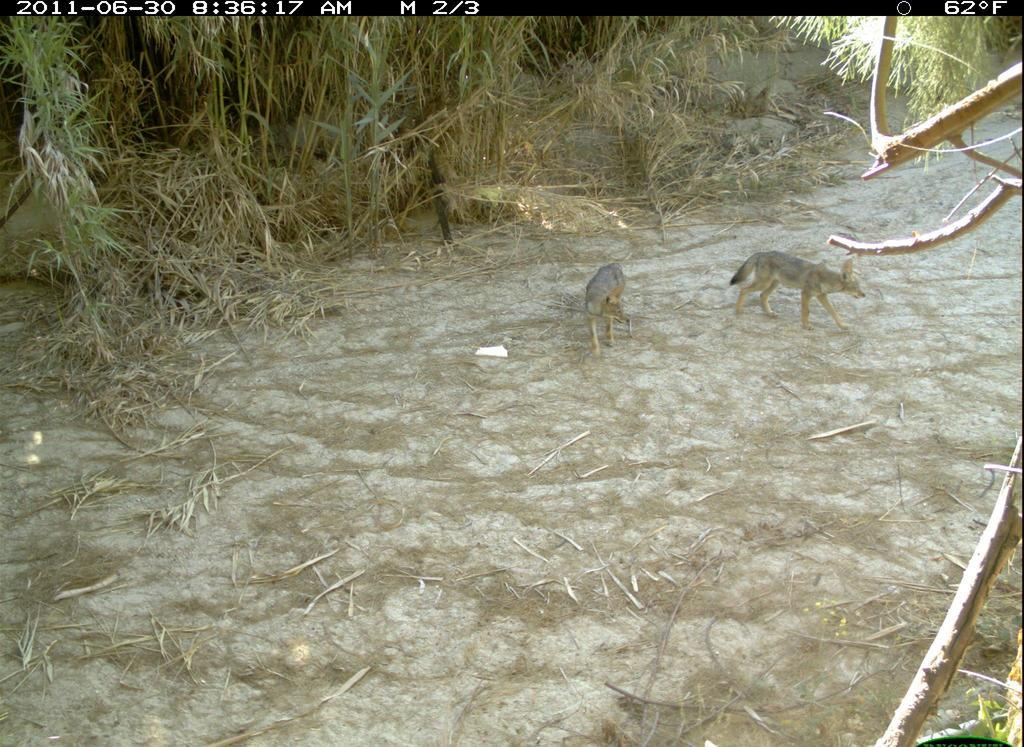coyote: (725, 241, 871, 337), (577, 258, 639, 360)
